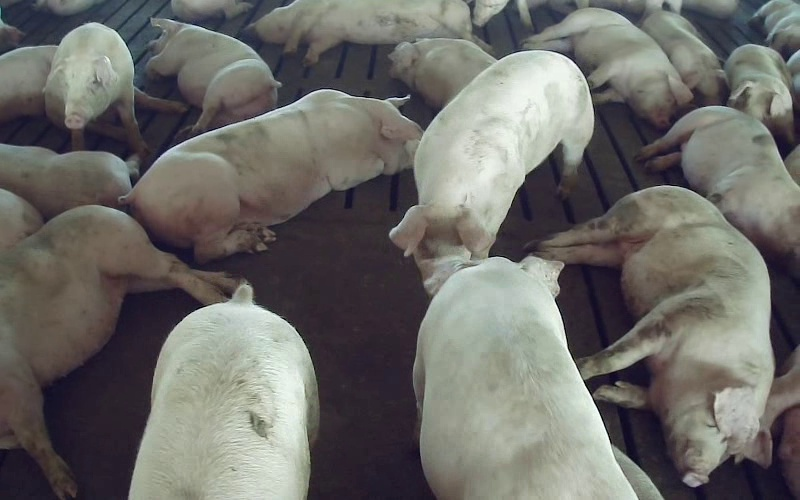pig: (533, 186, 773, 486), (0, 205, 235, 499), (414, 257, 635, 499), (121, 90, 421, 262), (390, 51, 593, 259), (129, 284, 318, 499), (638, 107, 799, 279), (523, 8, 692, 127), (44, 23, 186, 156), (146, 19, 280, 139), (249, 0, 490, 65), (641, 10, 727, 105), (388, 38, 495, 109), (724, 44, 793, 144)
